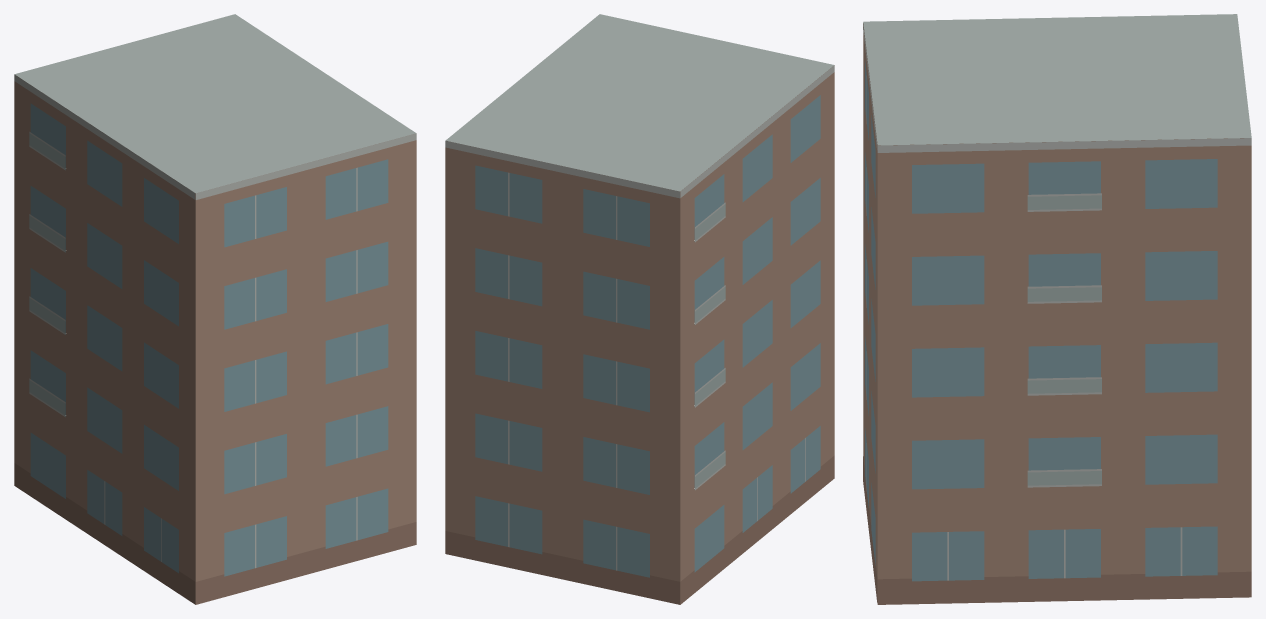
Rendered from survey-upis-33015738.glb.
3 renders of one model, left to right at view 1: azimuth 30°, elevation 25°; view 2: azimuth 150°, elevation 25°; view 3: azimuth 270°, elevation 25°, orthographic. The views are drawn at different scales.
Parts seen in each view (by area): view 1: survey-upis-33015738.tmp; view 2: survey-upis-33015738.tmp; view 3: survey-upis-33015738.tmp.
Part boxes in pixels (x1,y1,x2,y2): survey-upis-33015738.tmp: [14, 14, 416, 604]; survey-upis-33015738.tmp: [445, 14, 834, 604]; survey-upis-33015738.tmp: [863, 14, 1251, 604].
Size of the model in its own units: 9.03 by 14.7 by 11.28.
